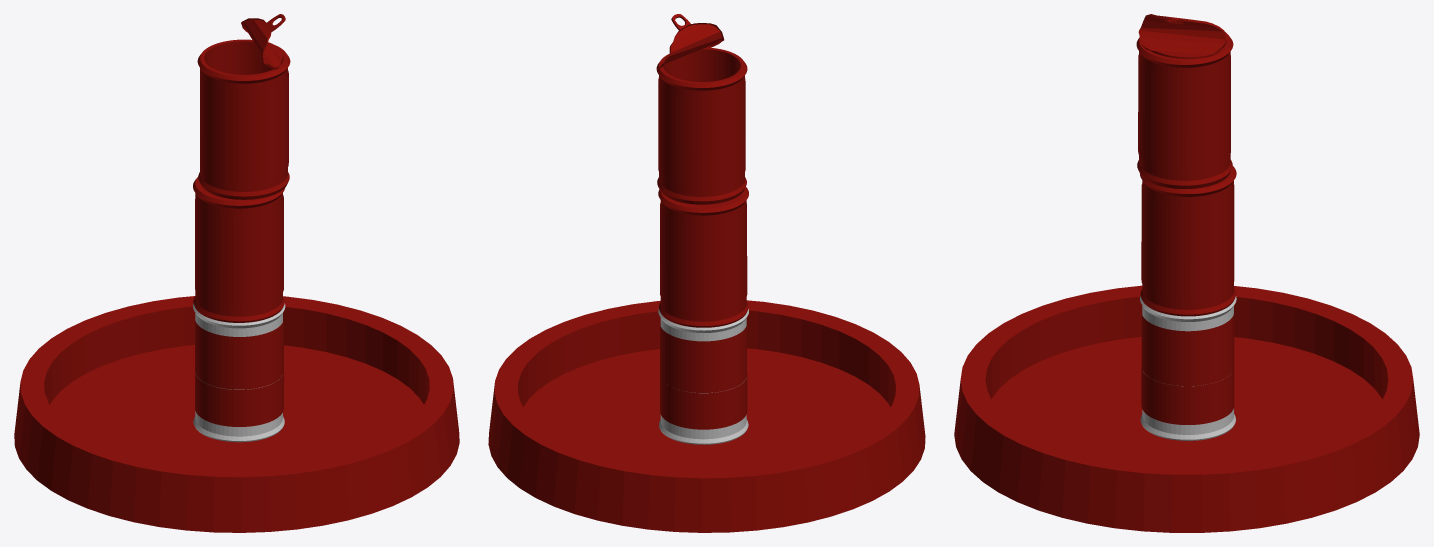
File: fountainversion1.obj
3 views of the same model, side by side, from view 1: azimuth 30°, elevation 25°; view 2: azimuth 150°, elevation 25°; view 3: azimuth 270°, elevation 25° (orthographic). The views are drawn at different scales.
Visible parts, largest first — view 1: Cylinder.003, Cylinder.007, Cylinder.008, Cylinder.001, Cylinder.005, Cylinder.009, Cylinder.002, Cylinder.006, Cylinder.004, Cylinder, Circle; view 2: Cylinder.003, Cylinder.007, Cylinder.008, Cylinder.005, Cylinder.001, Cylinder.009, Cylinder.002, Cylinder.006, Cylinder.004, Cylinder, Circle; view 3: Cylinder.003, Cylinder.001, Cylinder.005, Cylinder.008, Cylinder.006, Cylinder.002, Cylinder.009, Cylinder.007, Cylinder.004, Cylinder, Circle.
Part boxes in pixels (x1,y1,x2,y2): Cylinder.003: [14, 296, 459, 532]; Cylinder.007: [197, 39, 290, 199]; Cylinder.008: [200, 70, 288, 144]; Cylinder.001: [195, 315, 283, 389]; Cylinder.005: [195, 195, 283, 269]; Cylinder.009: [200, 126, 288, 182]; Cylinder.002: [195, 372, 283, 426]; Cylinder.006: [195, 252, 283, 307]; Cylinder.004: [193, 176, 284, 322]; Cylinder: [193, 303, 285, 442]; Circle: [241, 18, 283, 69]; Cylinder.003: [488, 300, 925, 532]; Cylinder.007: [656, 47, 747, 204]; Cylinder.008: [658, 78, 745, 150]; Cylinder.005: [660, 203, 746, 275]; Cylinder.001: [660, 320, 746, 392]; Cylinder.009: [658, 133, 745, 187]; Cylinder.002: [660, 373, 747, 429]; Cylinder.006: [660, 256, 747, 311]; Cylinder.004: [658, 187, 748, 327]; Cylinder: [658, 308, 748, 444]; Circle: [659, 23, 724, 68]; Cylinder.003: [954, 285, 1419, 532]; Cylinder.001: [1141, 309, 1234, 386]; Cylinder.005: [1141, 184, 1234, 260]; Cylinder.008: [1138, 54, 1230, 131]; Cylinder.006: [1141, 242, 1234, 299]; Cylinder.002: [1141, 367, 1234, 424]; Cylinder.009: [1138, 112, 1230, 170]; Cylinder.007: [1136, 32, 1233, 188]; Cylinder.004: [1140, 166, 1236, 316]; Cylinder: [1140, 296, 1236, 440]; Circle: [1138, 14, 1226, 58].
Bounding box in the file's own units: 7.76 × 8.06 × 7.78.
